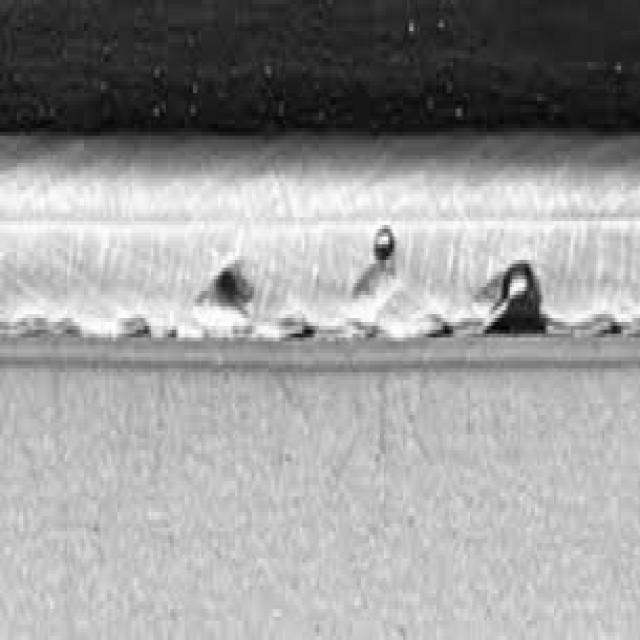Porosity: (481, 256, 542, 334), (206, 256, 254, 318), (366, 221, 398, 260)
